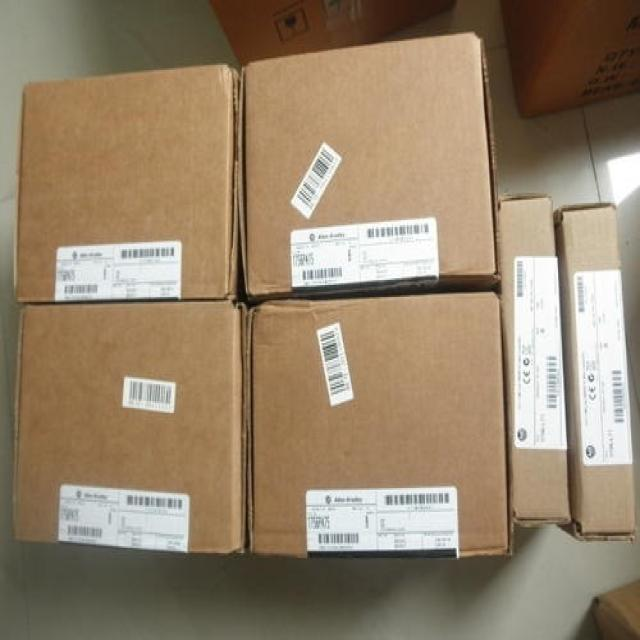box: (246, 293, 516, 554), (241, 32, 502, 299), (12, 298, 245, 551), (19, 67, 244, 300), (555, 206, 635, 542), (501, 195, 573, 527), (501, 0, 639, 117), (210, 1, 457, 63), (596, 577, 639, 638)
